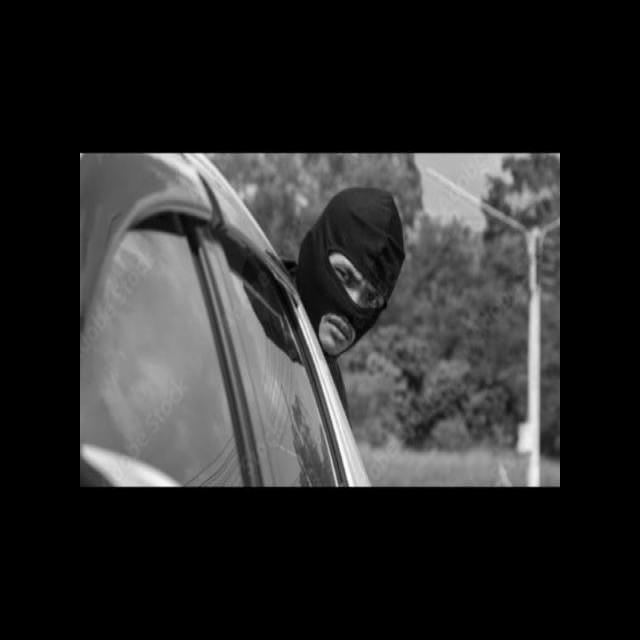6_pasamontana: (298, 186, 407, 358)
